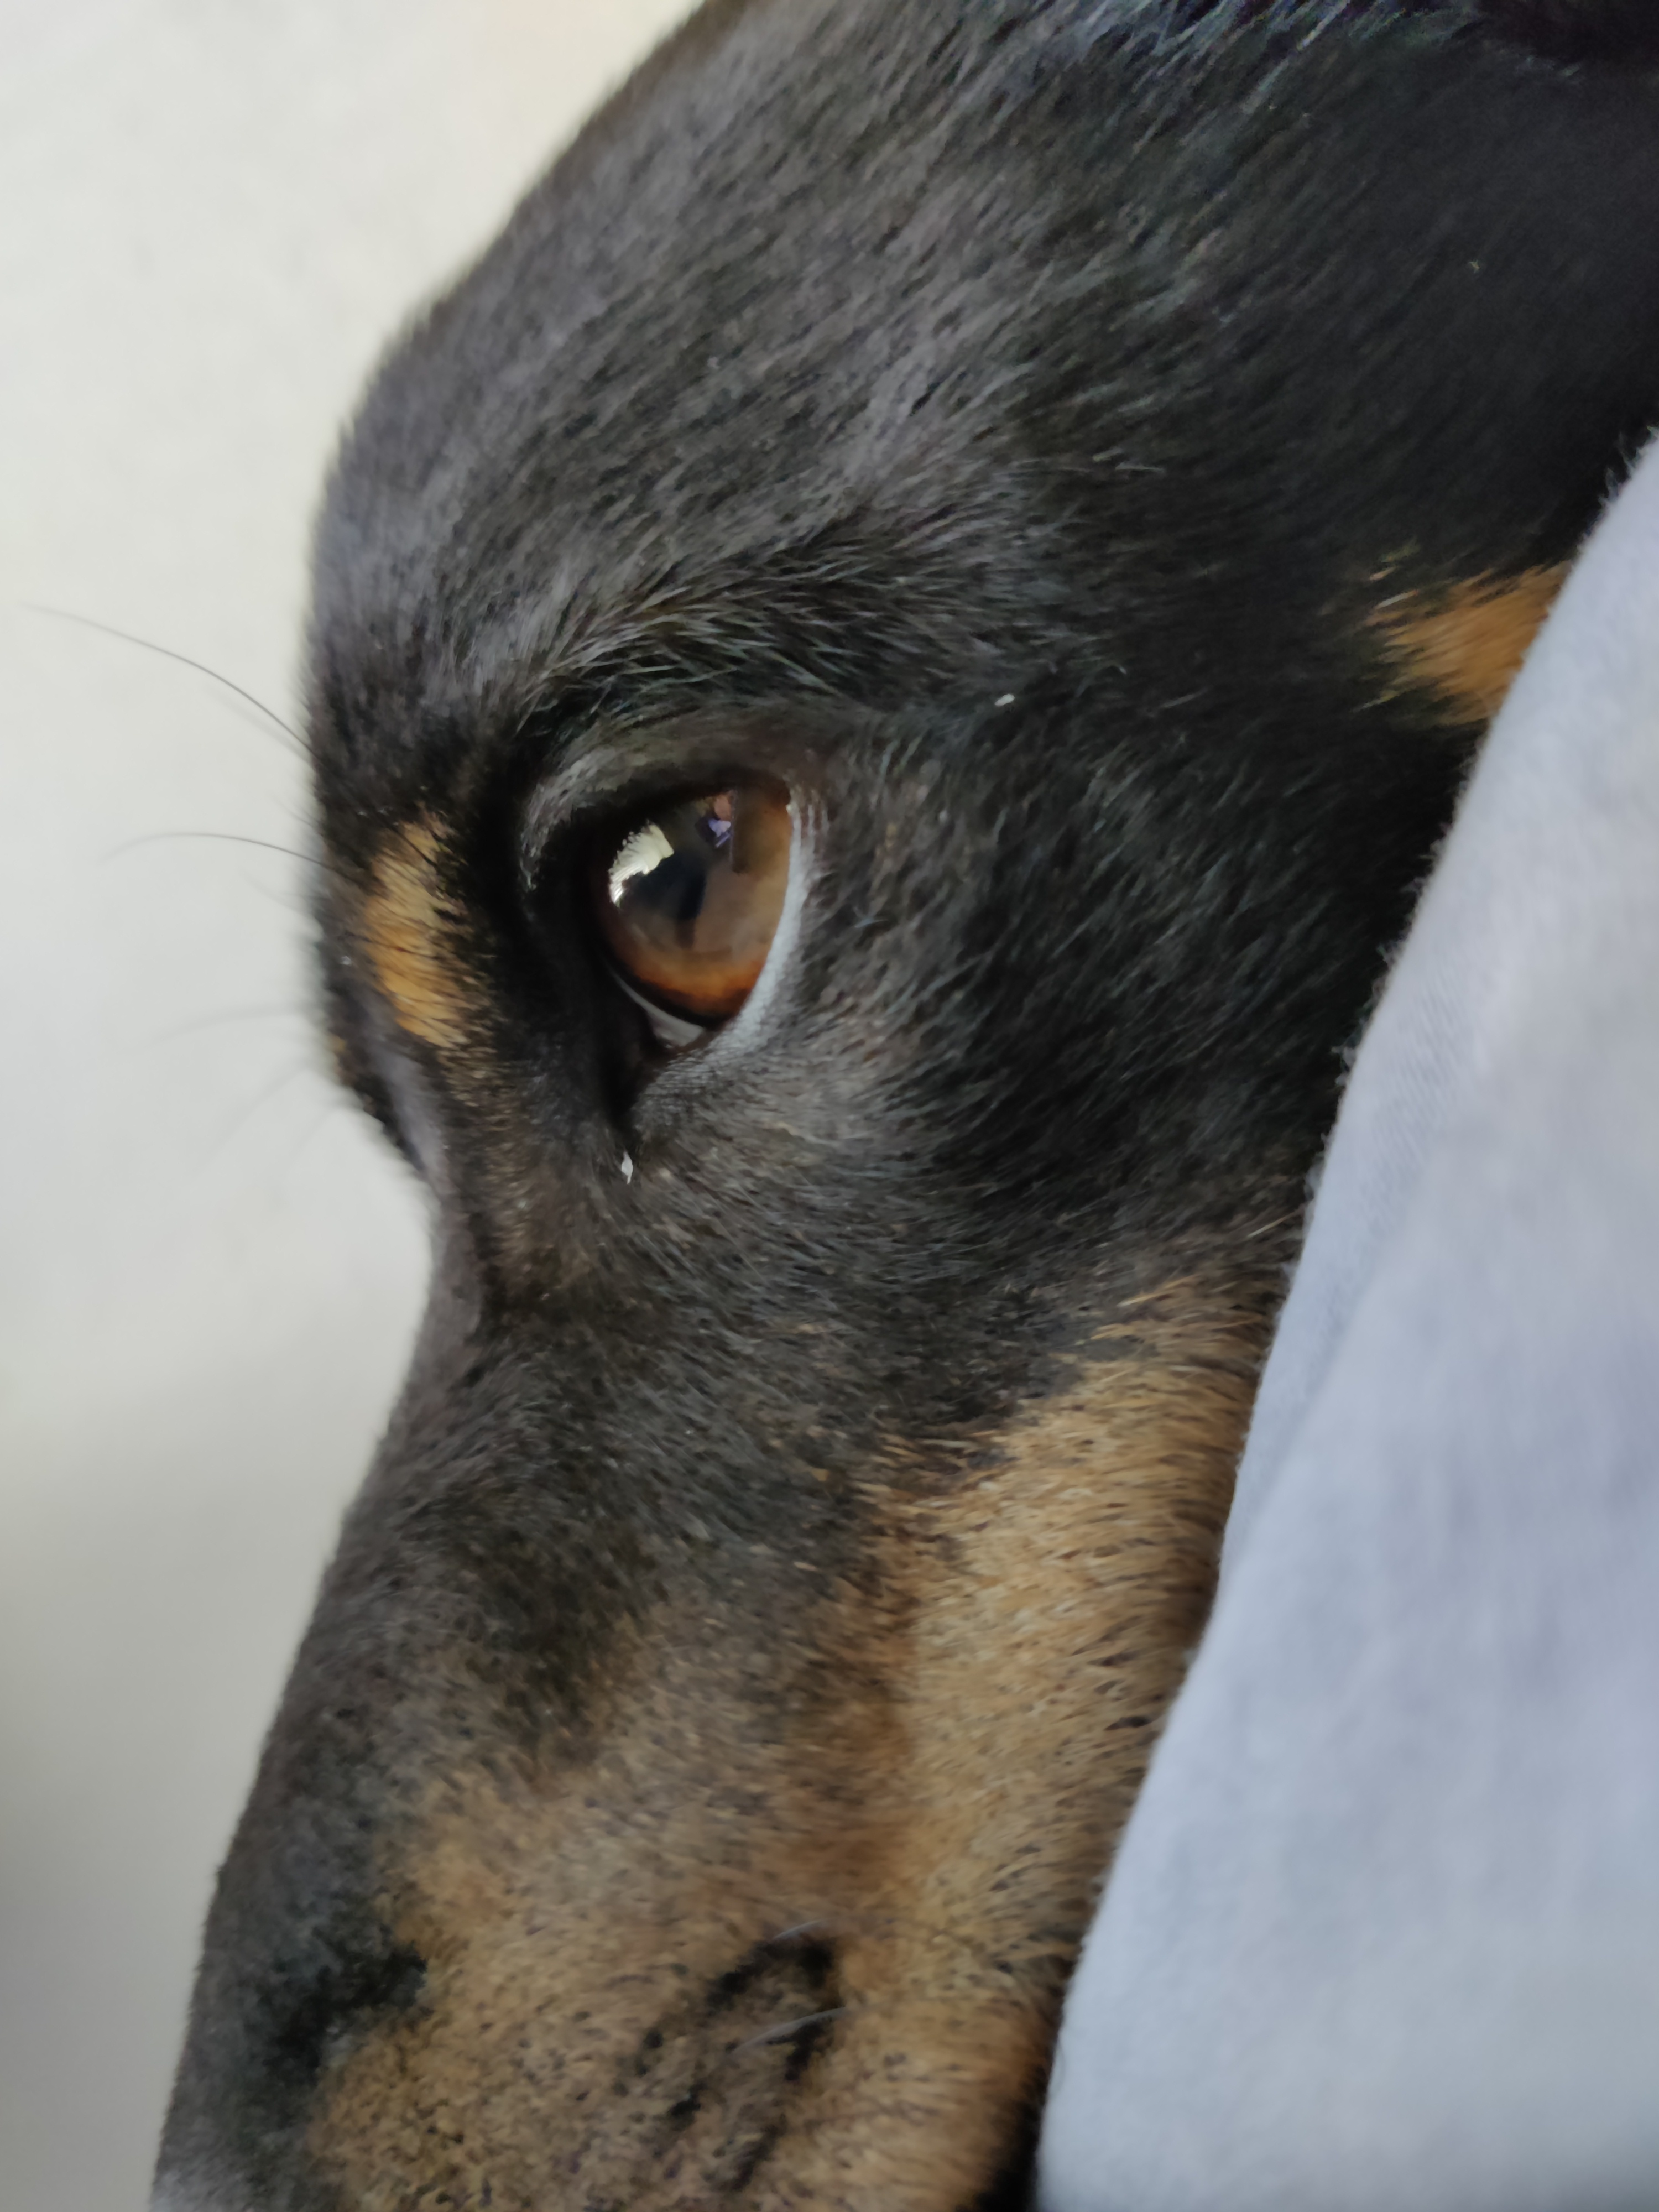Dog: (134, 0, 1659, 2212)
